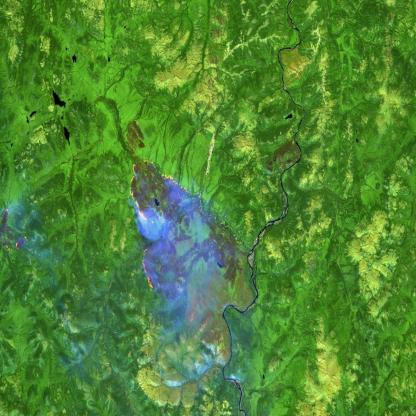fire: (124, 153, 198, 294)
